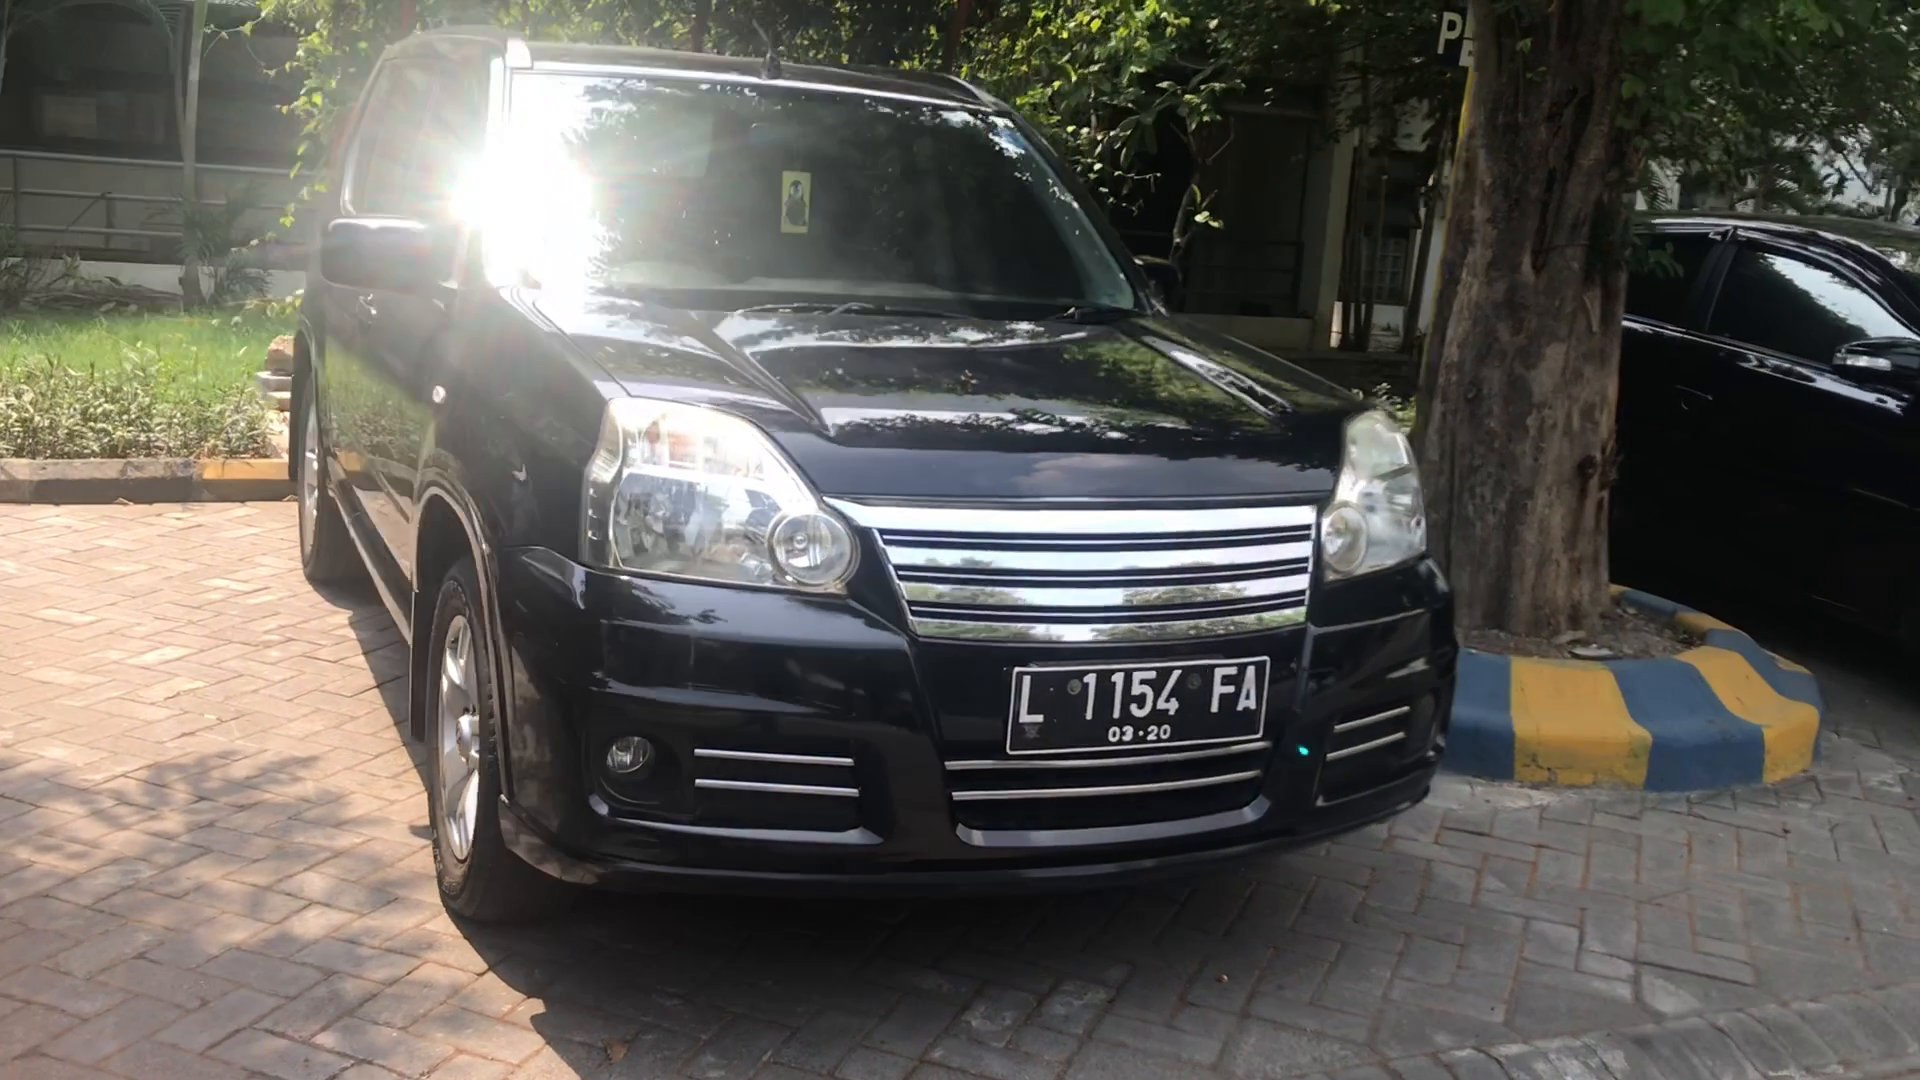plate: (1012, 662, 1272, 750)
